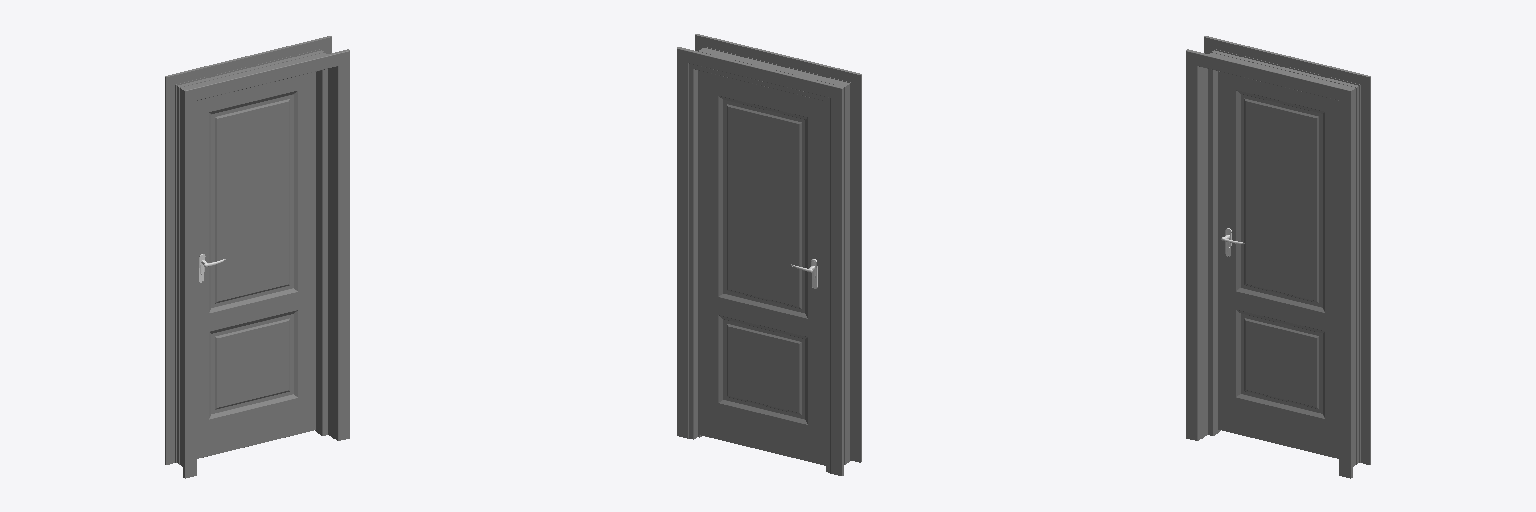
Rendered from door.obj.
3 views of the same model, side by side, from view 1: azimuth 30°, elevation 25°; view 2: azimuth 150°, elevation 25°; view 3: azimuth 330°, elevation 25° (orthographic).
Parts seen in each view (by area): view 1: obj_236, obj_222; view 2: obj_236, obj_222; view 3: obj_236, obj_222.
Boxes of the visible parts, box(x1,y1,x2,y2) form: obj_236: box(197, 72, 315, 458); obj_222: box(165, 36, 349, 478); obj_236: box(699, 71, 825, 465); obj_222: box(677, 34, 861, 475); obj_236: box(1218, 71, 1338, 458); obj_222: box(1186, 36, 1370, 478).
Size of the model in its own units: 925 by 2064 by 226.